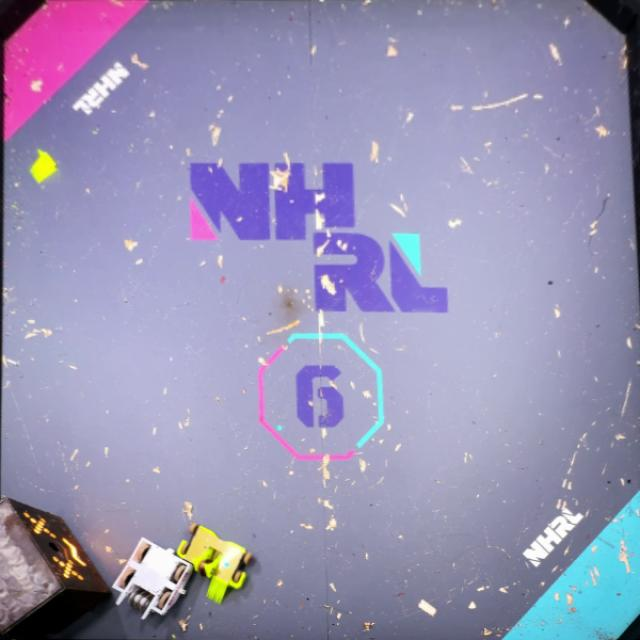housebot: (0, 496, 116, 640)
robot: (116, 536, 199, 618), (178, 520, 258, 589)
